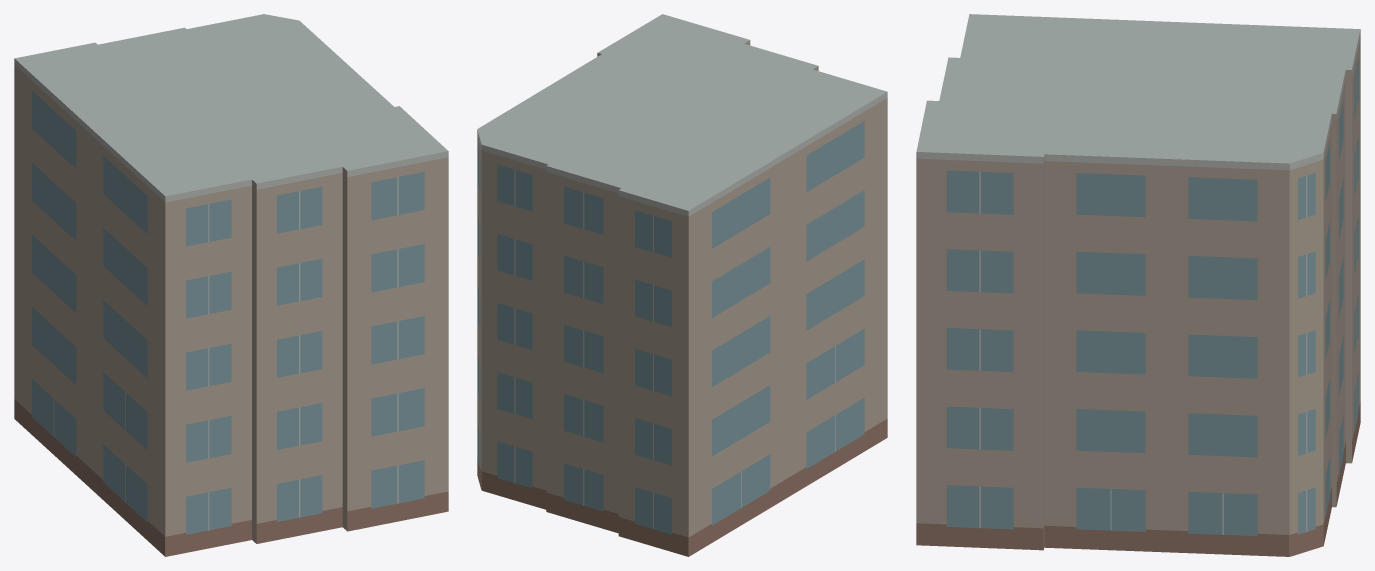
File: survey-upis-32617307.glb
3 renders of one model, left to right at view 1: azimuth 30°, elevation 25°; view 2: azimuth 150°, elevation 25°; view 3: azimuth 270°, elevation 25°, orthographic. The views are drawn at different scales.
Visible parts, largest first — view 1: survey-upis-32617307.tmp; view 2: survey-upis-32617307.tmp; view 3: survey-upis-32617307.tmp.
Part boxes in pixels (left/top/right/bottom): survey-upis-32617307.tmp: left=14, top=14, right=448, bottom=556; survey-upis-32617307.tmp: left=477, top=14, right=887, bottom=556; survey-upis-32617307.tmp: left=916, top=14, right=1360, bottom=556.
Size of the model in its own units: 11.59 by 14.2 by 14.54.
